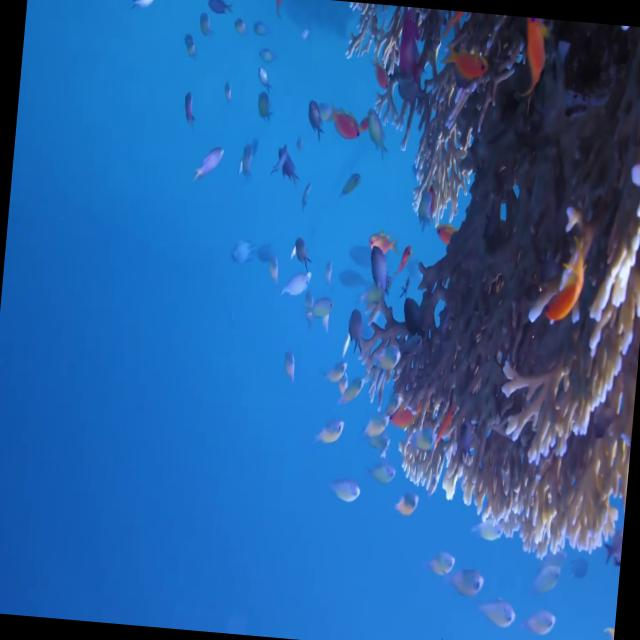fish: (533, 242, 595, 338), (514, 17, 560, 111), (443, 36, 499, 92), (445, 560, 494, 618), (322, 98, 367, 158), (177, 138, 233, 186), (417, 540, 462, 594), (358, 396, 402, 448), (329, 464, 370, 518), (385, 480, 427, 528), (249, 238, 287, 291), (530, 549, 570, 599), (274, 262, 317, 306), (363, 107, 397, 161), (293, 96, 326, 150), (426, 204, 464, 250), (479, 597, 519, 640), (313, 412, 347, 458), (363, 228, 402, 268), (367, 47, 397, 97), (273, 344, 305, 390), (226, 236, 259, 272), (521, 611, 558, 640)
